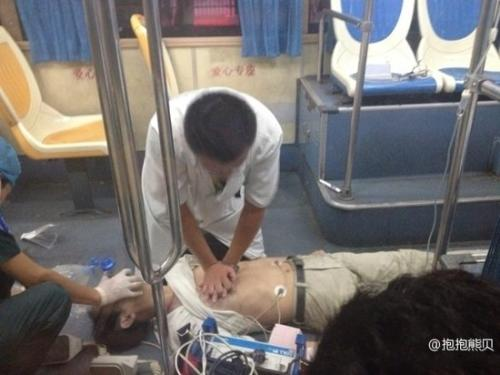fall: (80, 228, 476, 347)
